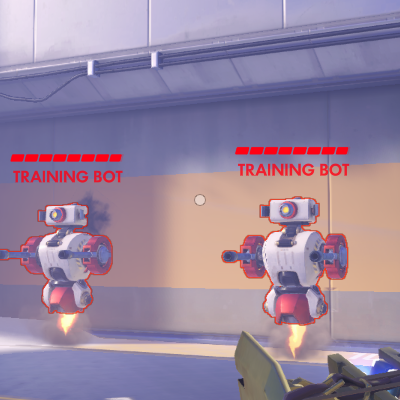hpbar: (235, 146, 350, 155), (10, 154, 124, 163)
